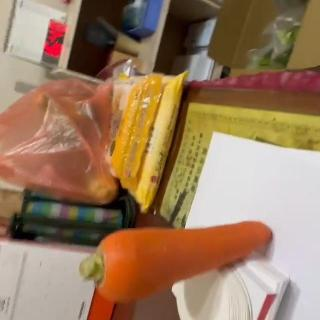carrot: (82, 218, 272, 302)
